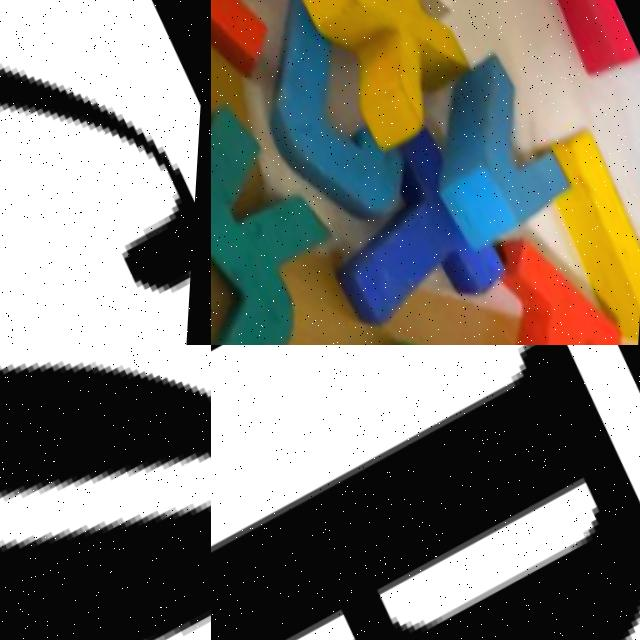6: (0, 0, 211, 345)
E: (211, 0, 369, 93)
I: (428, 227, 640, 345)
K: (211, 84, 392, 345)
L: (528, 96, 640, 345)
O: (0, 370, 211, 640)
R: (211, 345, 640, 640)
V: (392, 39, 606, 301)
X: (295, 0, 515, 187)
